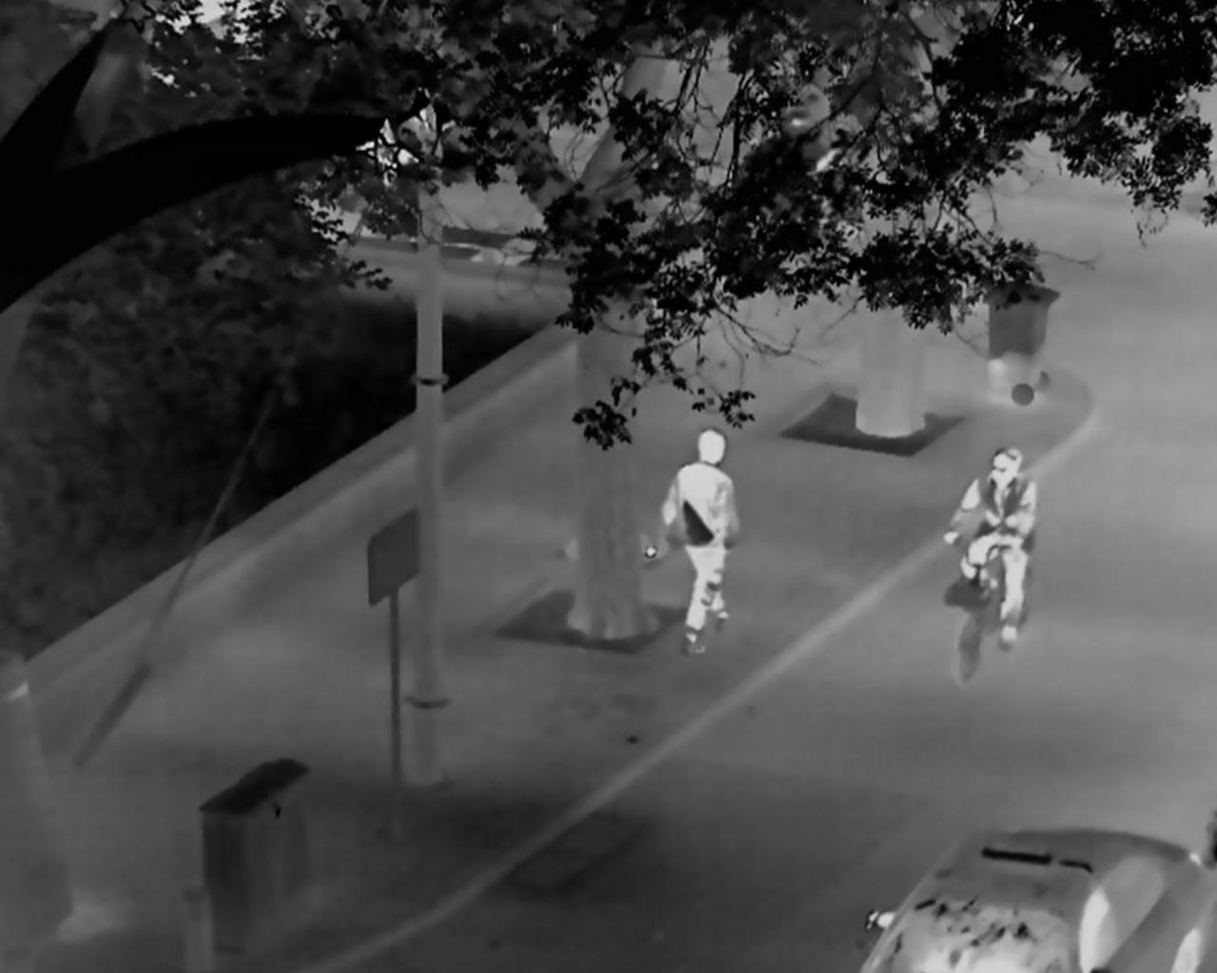person: (942, 445, 1038, 655), (658, 428, 742, 658)
